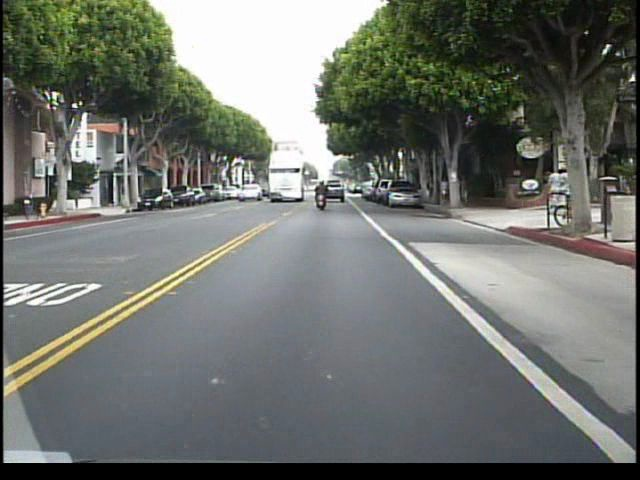person: (312, 177, 331, 220), (437, 174, 449, 207), (461, 174, 471, 205), (452, 173, 461, 205)
